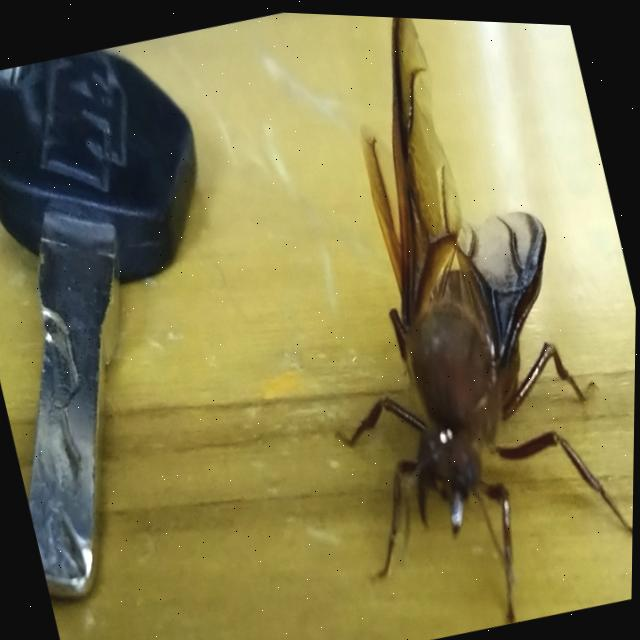Alive-Female-Alate: (234, 8, 640, 640)
